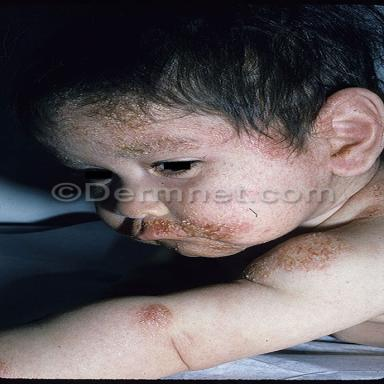eczema: (58, 97, 236, 159), (285, 90, 354, 174), (132, 212, 251, 257), (247, 233, 346, 279), (244, 129, 294, 159), (357, 173, 384, 221), (136, 304, 172, 327)
